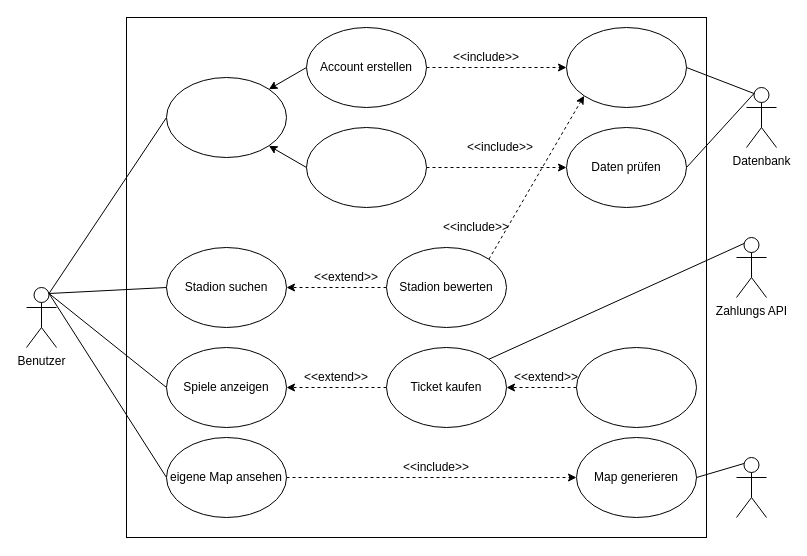
Some shapes in this 807 by 556 pixel diagram are drawn without their labels. Here are the shapes that lost their labels. From the top down, the centre of each, then its label:
point 626,67: Daten speichern
point 226,117: Authentifizierung
point 366,167: Anmelden
point 636,387: Rechnung mailen
point 751,487: Maps API
